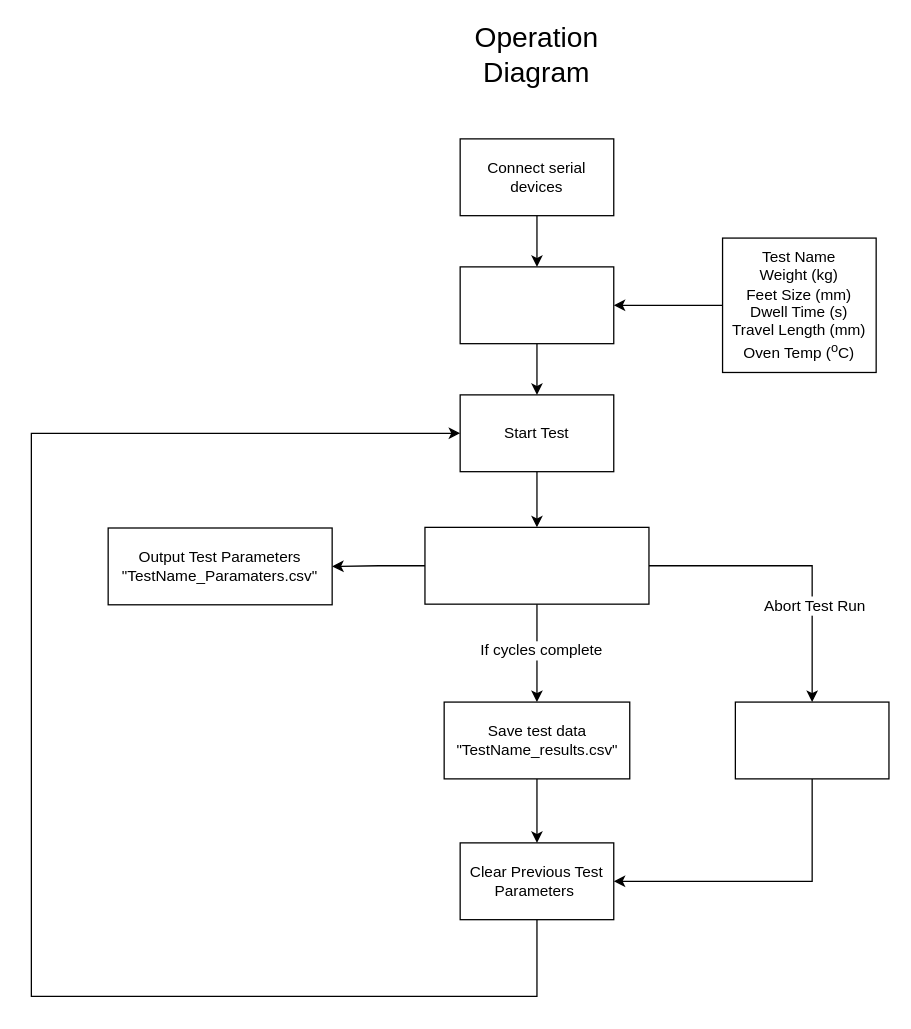
The diagram is 911 pixels wide and 1029 high, and some of its shapes have lost their labels. The shapes that lost their labels are listed below. From the top down, each one's centre as x and y in pixels, then its label:
At point 536,305: "Input Test Parameters".
At point 536,565: "Create Directory TestName_datetimestamp".
At point 811,740: "Save Last Collected data".
